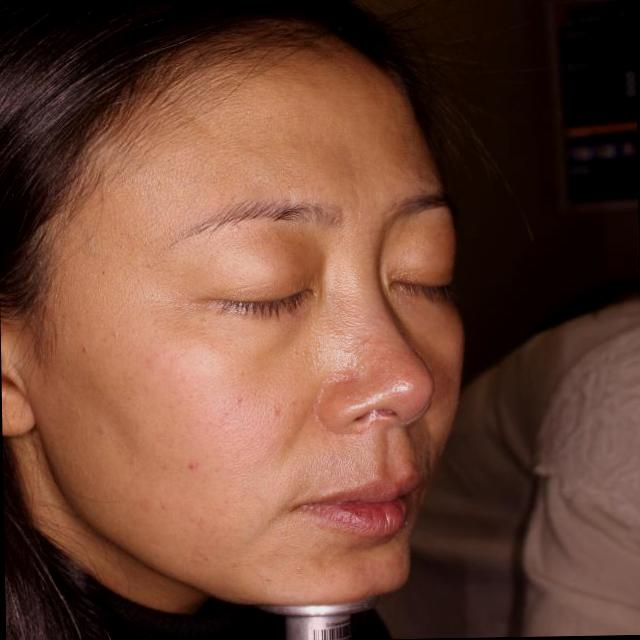acne: (188, 452, 204, 479)
